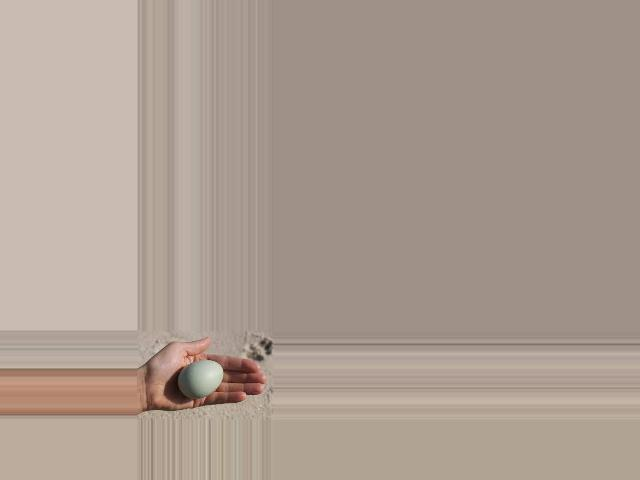egg: (179, 360, 224, 398)
